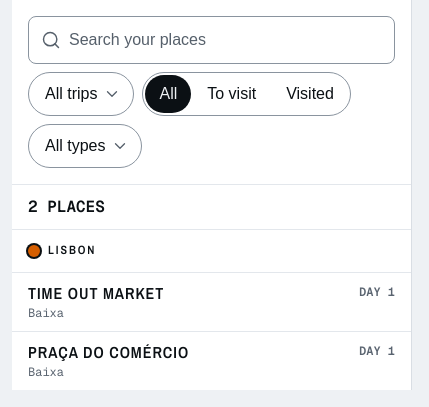
Test: Places tab states › search narrows the list (accents ignored)
Type "praca" into the search field labelled "Search your places".
click(212, 40); type("praca")  # box [29,17,394,63]
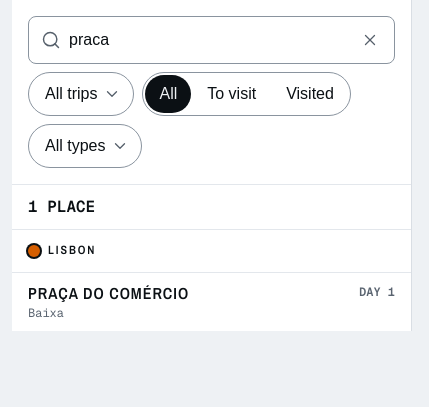
Expected: the heading "1 place" is shown, [28,196,95,217]
Expected: the button "Time Out Market" is gone
